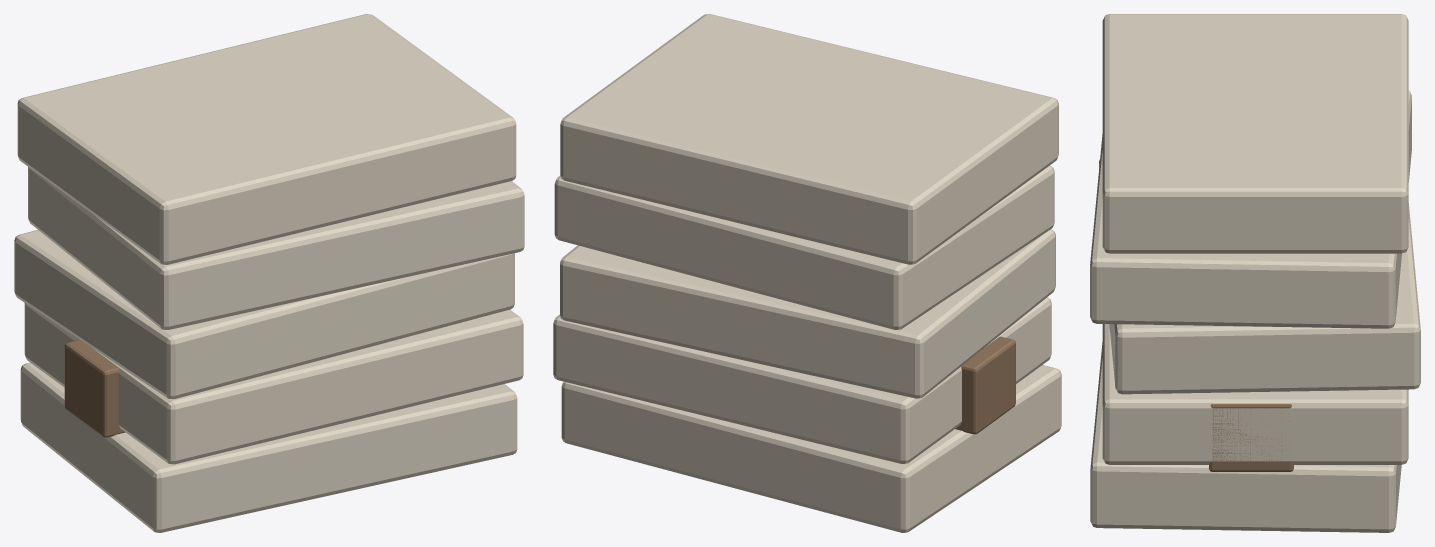
3 renders of one model, left to right at view 1: azimuth 30°, elevation 25°; view 2: azimuth 150°, elevation 25°; view 3: azimuth 270°, elevation 25°, orthographic. The views are drawn at different scales.
Visible parts, largest first — view 1: paperStack; view 2: paperStack; view 3: paperStack.
Part boxes in pixels (x1,y1,x2,y2): paperStack: [14, 14, 524, 532]; paperStack: [553, 14, 1061, 532]; paperStack: [1090, 14, 1420, 532].
Bounding box in the file's own units: 0.5267 × 0.445 × 0.3895.
